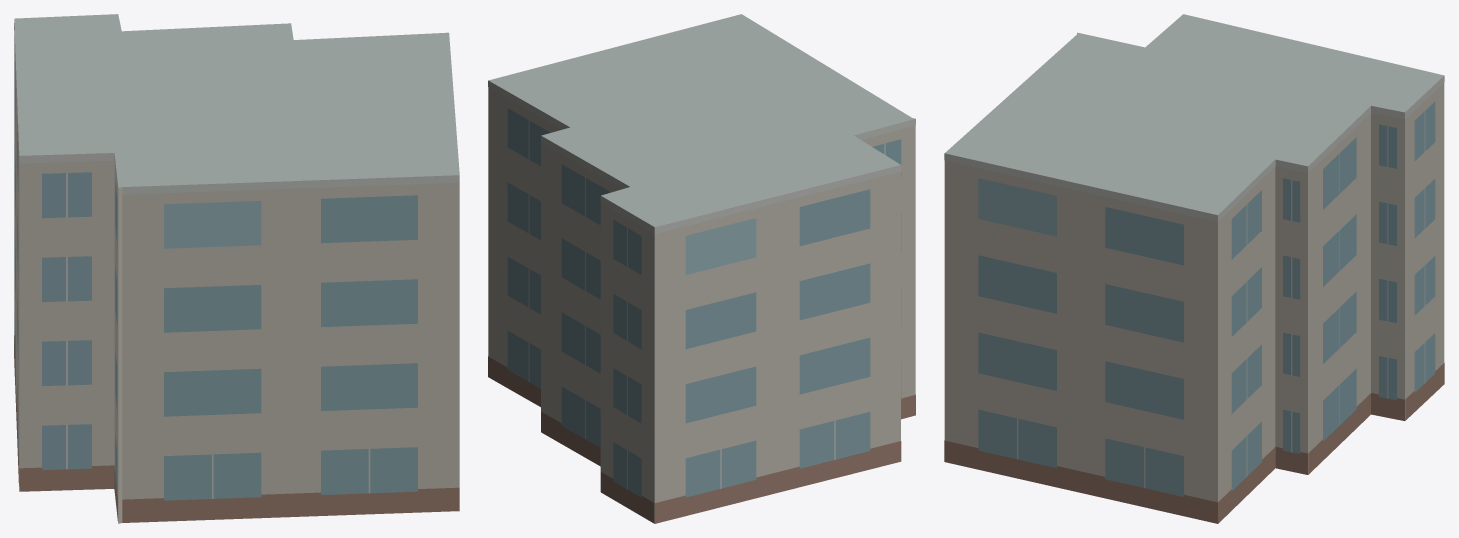
The model's file is survey-upis-32998482.glb.
3 views of the same model, side by side, from view 1: azimuth 30°, elevation 25°; view 2: azimuth 150°, elevation 25°; view 3: azimuth 270°, elevation 25° (orthographic). The views are drawn at different scales.
Parts seen in each view (by area): view 1: survey-upis-32998482.tmp; view 2: survey-upis-32998482.tmp; view 3: survey-upis-32998482.tmp.
Part boxes in pixels (<box>): survey-upis-32998482.tmp: <box>14,14,459,523</box>; survey-upis-32998482.tmp: <box>488,14,915,523</box>; survey-upis-32998482.tmp: <box>944,14,1444,523</box>.
Size of the model in its own units: 15.11 by 10.8 by 15.86.
